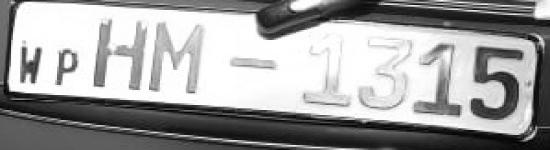-: (224, 52, 280, 74)
1: (413, 33, 467, 122), (298, 29, 354, 111)
3: (353, 30, 413, 113)
5: (466, 42, 528, 126)
H: (90, 12, 147, 96)
M: (148, 18, 207, 98)
P: (51, 47, 82, 87)
W: (14, 42, 44, 89)
